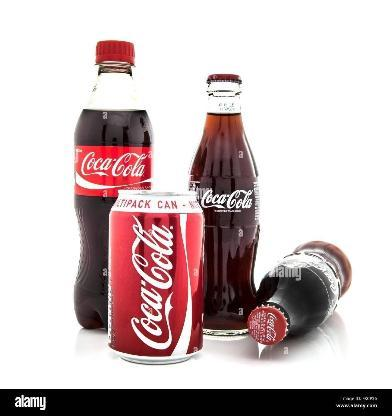Can: (105, 189, 206, 365)
Glass Bottle: (188, 74, 262, 334), (248, 240, 352, 346)
Plastic Bottle: (70, 38, 156, 330)
